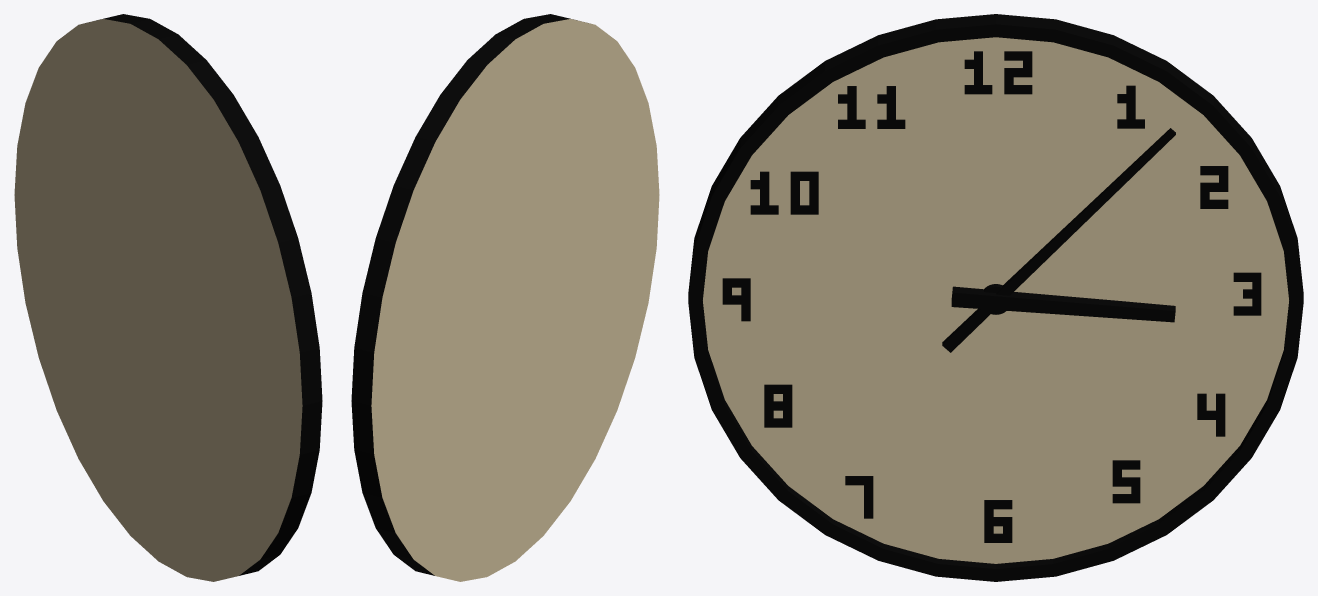
File: Horloge_gamejam.fbx
3 renders of one model, left to right at view 1: azimuth 30°, elevation 25°; view 2: azimuth 150°, elevation 25°; view 3: azimuth 270°, elevation 25°, orthographic. The views are drawn at different scales.
Visible parts, largest first — view 1: Cylinder; view 2: Cylinder; view 3: Cylinder.
Part boxes in pixels (box(x1,y1,x2,y2)): Cylinder: box(14, 14, 322, 581); Cylinder: box(351, 14, 659, 581); Cylinder: box(688, 14, 1303, 581).
Size of the model in its own units: 2.18 by 50 by 50.
